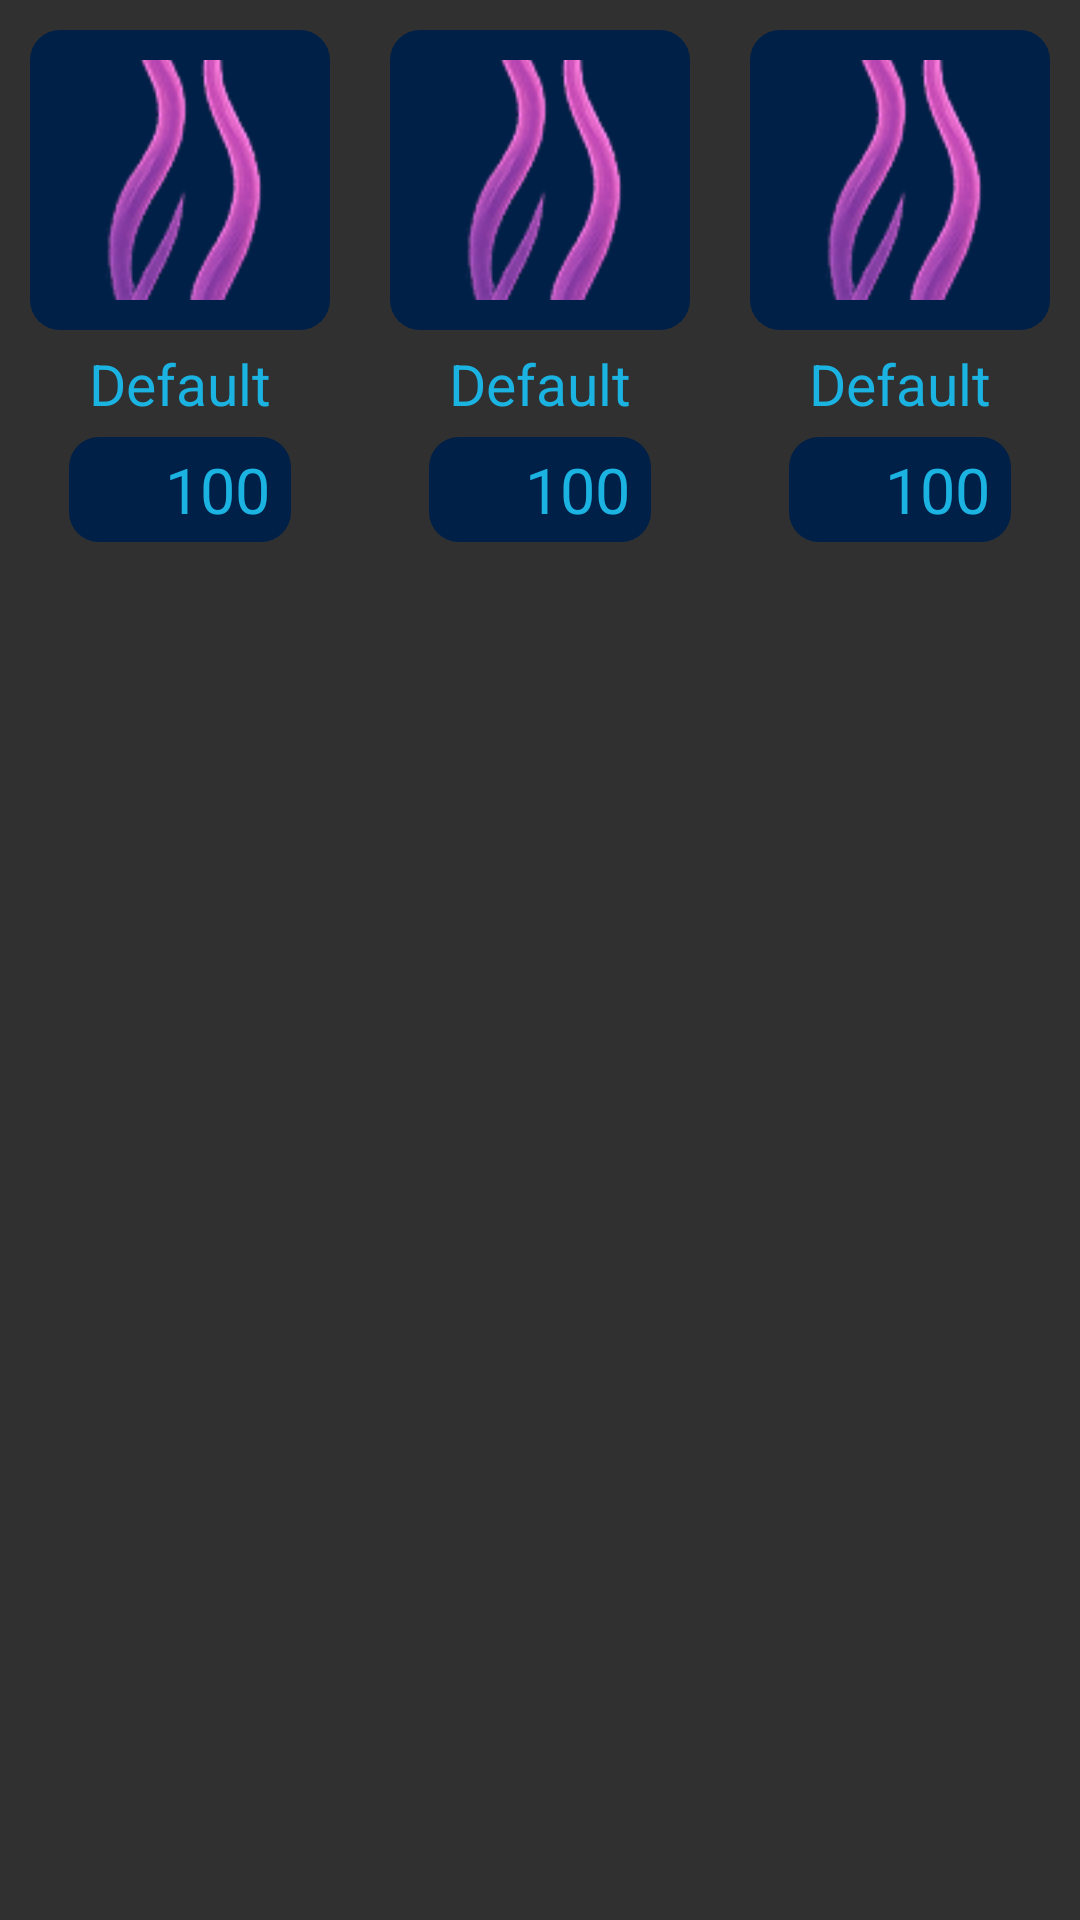

Point at icon controls on the screen. Image size 1080 x 1920, points as [x,y].
side decor: [184,180], [544,180], [904,180]
